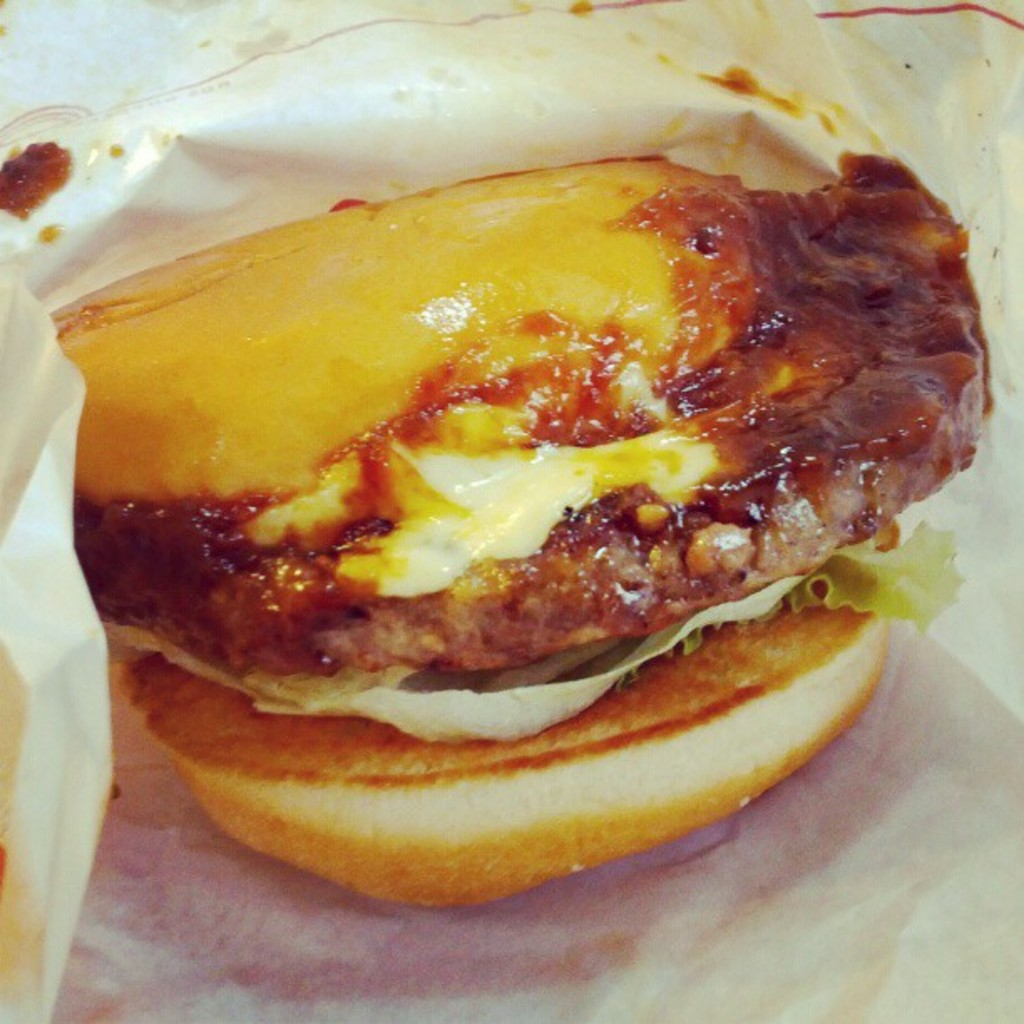Hamburger: (51, 155, 988, 906)
